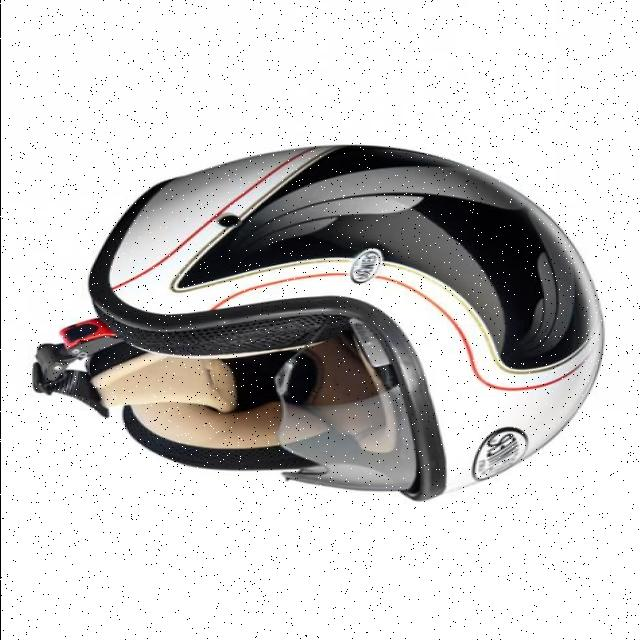Helmet: (33, 146, 602, 500)
